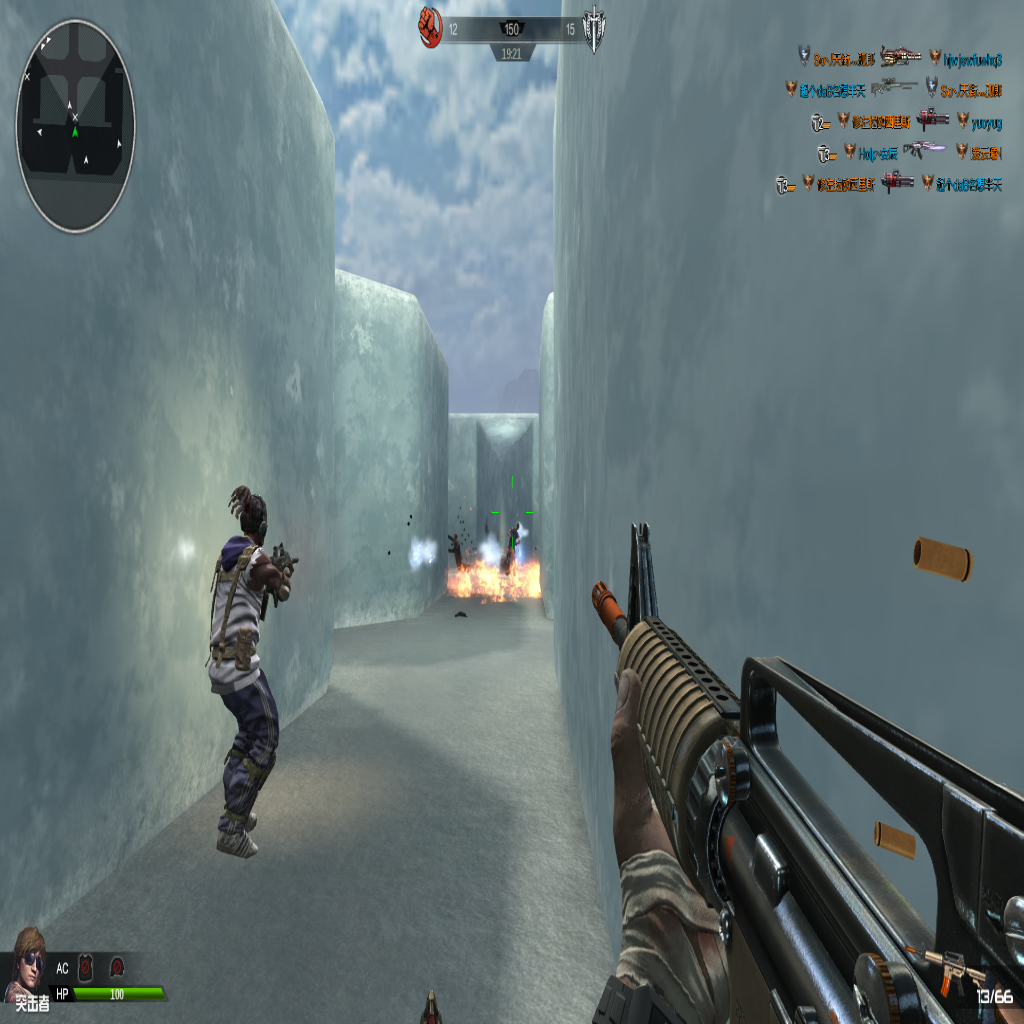tt: (205, 496, 291, 851)
